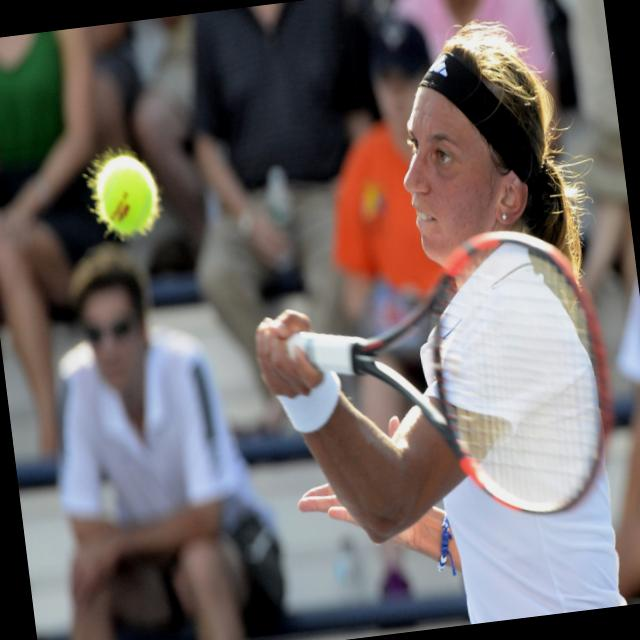Tennis Ball: (80, 139, 168, 240)
